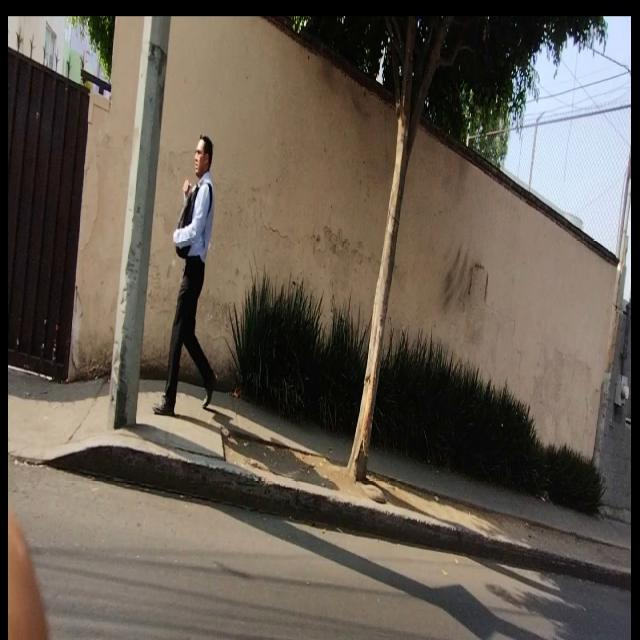adult: (154, 134, 215, 418)
